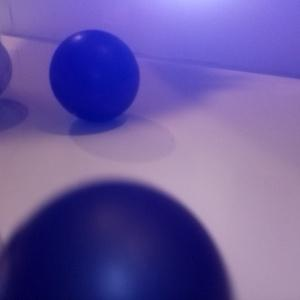alive_ball: (1, 43, 14, 108)
dead_ball: (1, 178, 236, 300), (47, 29, 140, 123)
